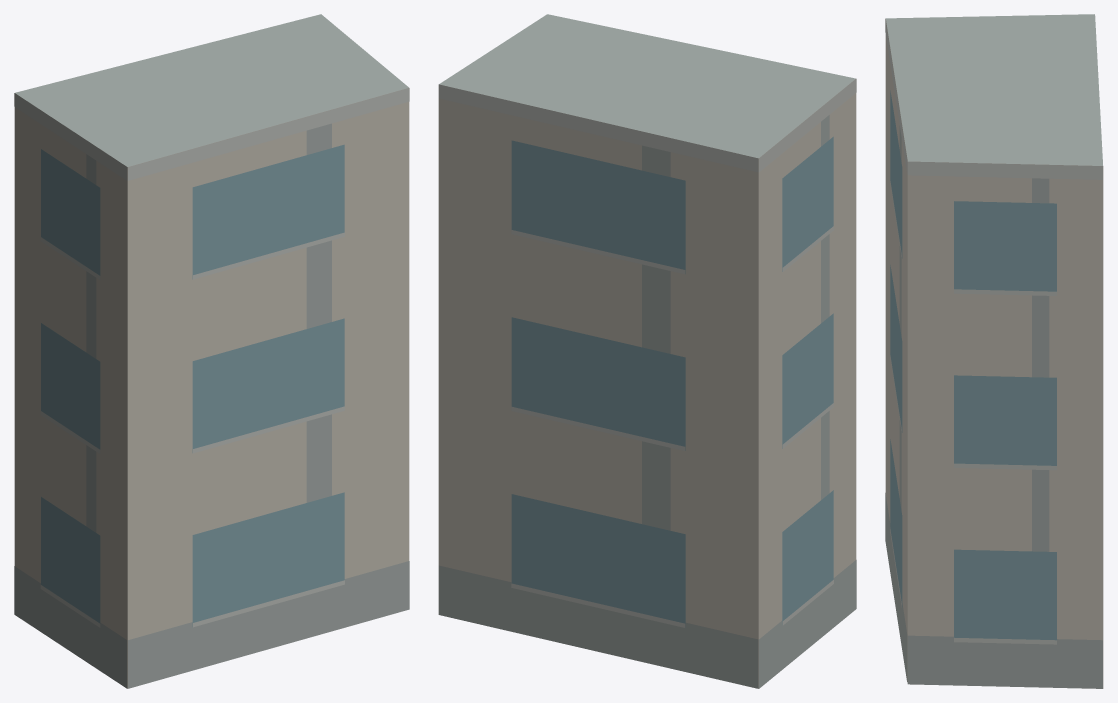
The model's file is survey-upis-33028681.glb.
3 views of the same model, side by side, from view 1: azimuth 30°, elevation 25°; view 2: azimuth 150°, elevation 25°; view 3: azimuth 270°, elevation 25° (orthographic).
Visible parts, largest first — view 1: survey-upis-33028681.tmp; view 2: survey-upis-33028681.tmp; view 3: survey-upis-33028681.tmp.
Part boxes in pixels (left/top/right/bottom): survey-upis-33028681.tmp: left=14, top=14, right=409, bottom=688; survey-upis-33028681.tmp: left=438, top=14, right=856, bottom=688; survey-upis-33028681.tmp: left=885, top=14, right=1103, bottom=688.
Size of the model in its own units: 5.71 by 9.15 by 3.46.
